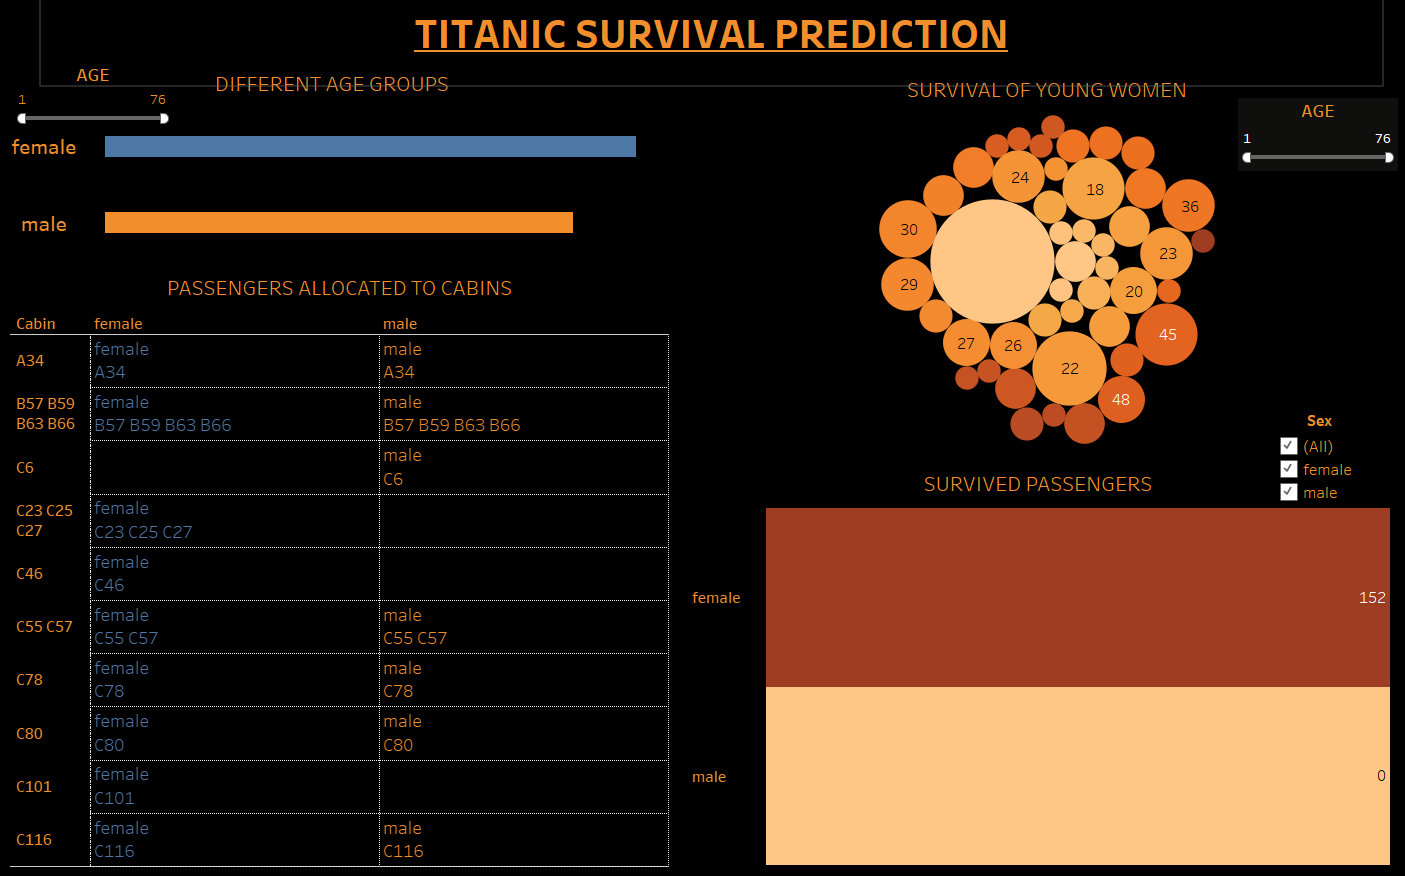

The dashboard page shown, as its layout file describes it:
{"tool":"tableau","page":{"name":"TITANIC SURVIVAL PREDICTION","canvas":[1400,800],"ordinal":0},"visuals":[{"type":"text","box":[1232,8,160,188]},{"type":"filter","title":"DIFFERENT AGE GROUPS ","param":"[federated.00s30fa0j1wzc4162kq0n0basjee].[none:Age:qk]","box":[15,69,160,66]},{"type":"worksheet","title":"DIFFERENT AGE GROUPS ","mark":"Bar","rows":["Sex"],"cols":["Age"],"box":[6,72,660,196]},{"type":"filter","title":"SURVIVAL OF YOUNG WOMEN","param":"[federated.00s30fa0j1wzc4162kq0n0basjee].[none:Age:qk]","box":[1240,105,160,73]},{"type":"filter","title":"SURVIVED PASSENGERS","param":"[federated.00s30fa0j1wzc4162kq0n0basjee].[none:Sex:nk]","box":[1275,417,93,98]}]}

Visuals, with their boxes on the page's 1400x800 design canvas (x1, y1, x2, y2). These are canvas units, not pixel positions in the 1405x876 screenshot, which may show the page scaled, cropped or inside an application window:
text: l=1232, t=8, r=1392, b=196
"DIFFERENT AGE GROUPS " filter: l=15, t=69, r=175, b=135
"DIFFERENT AGE GROUPS " worksheet (Bar marks): l=6, t=72, r=666, b=268
"SURVIVAL OF YOUNG WOMEN" filter: l=1240, t=105, r=1400, b=178
"SURVIVED PASSENGERS" filter: l=1275, t=417, r=1368, b=515
